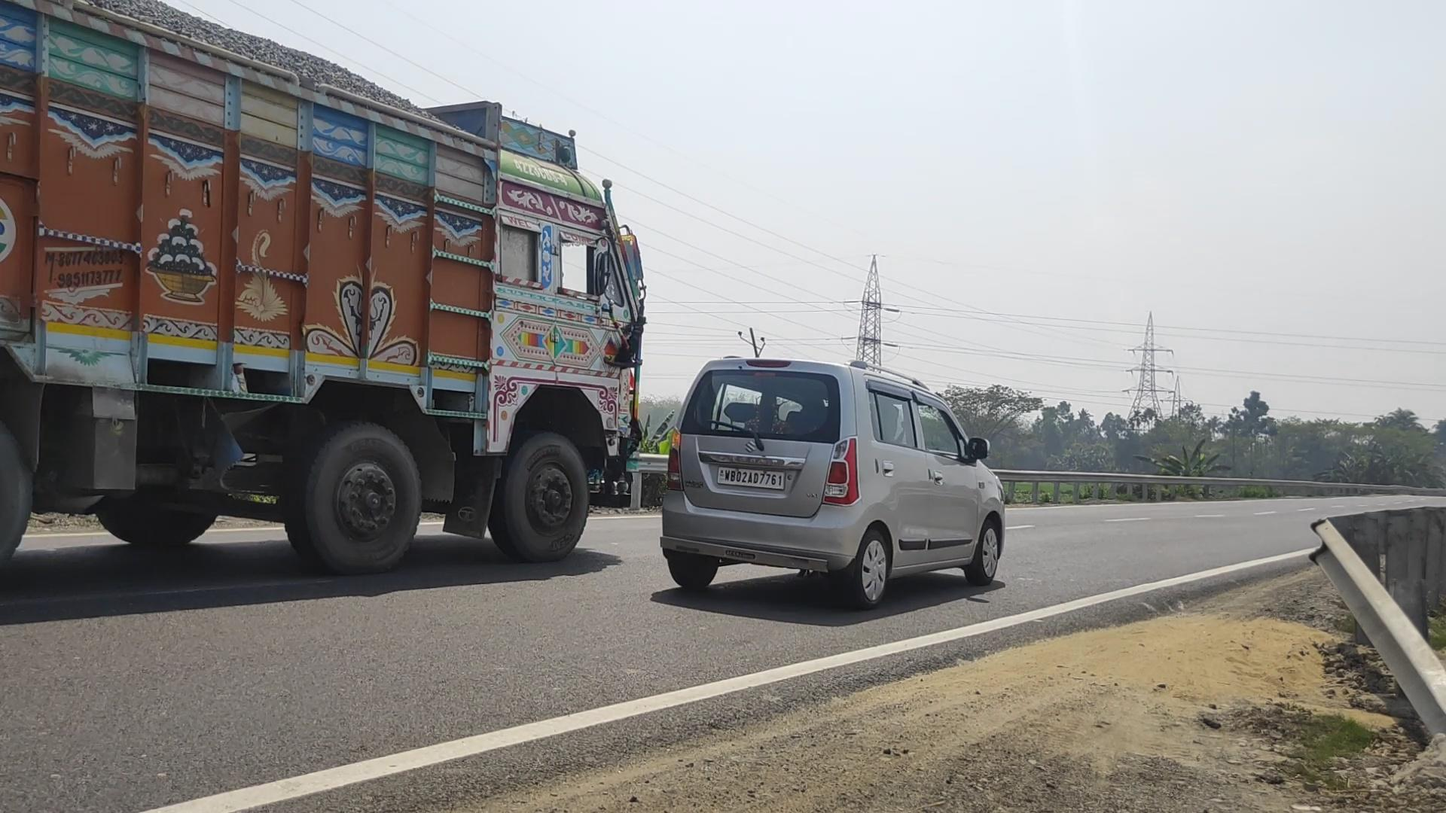car: (660, 355, 1005, 610)
truck: (1, 1, 648, 583)
